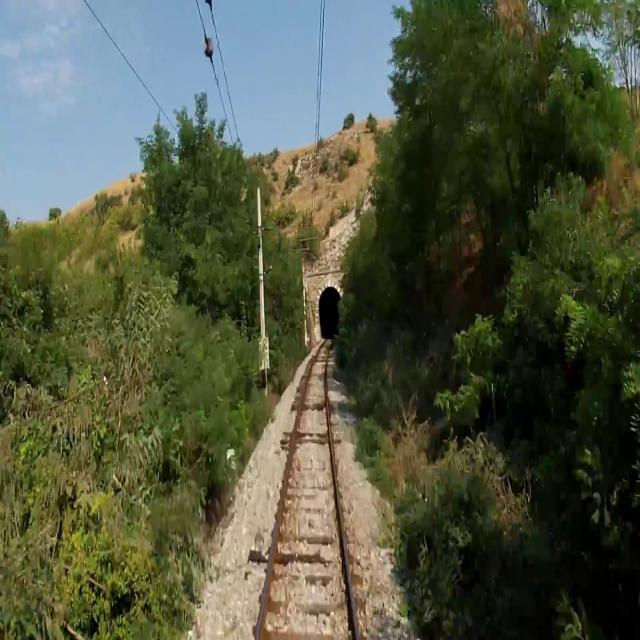rail-track: (260, 338, 355, 639)
